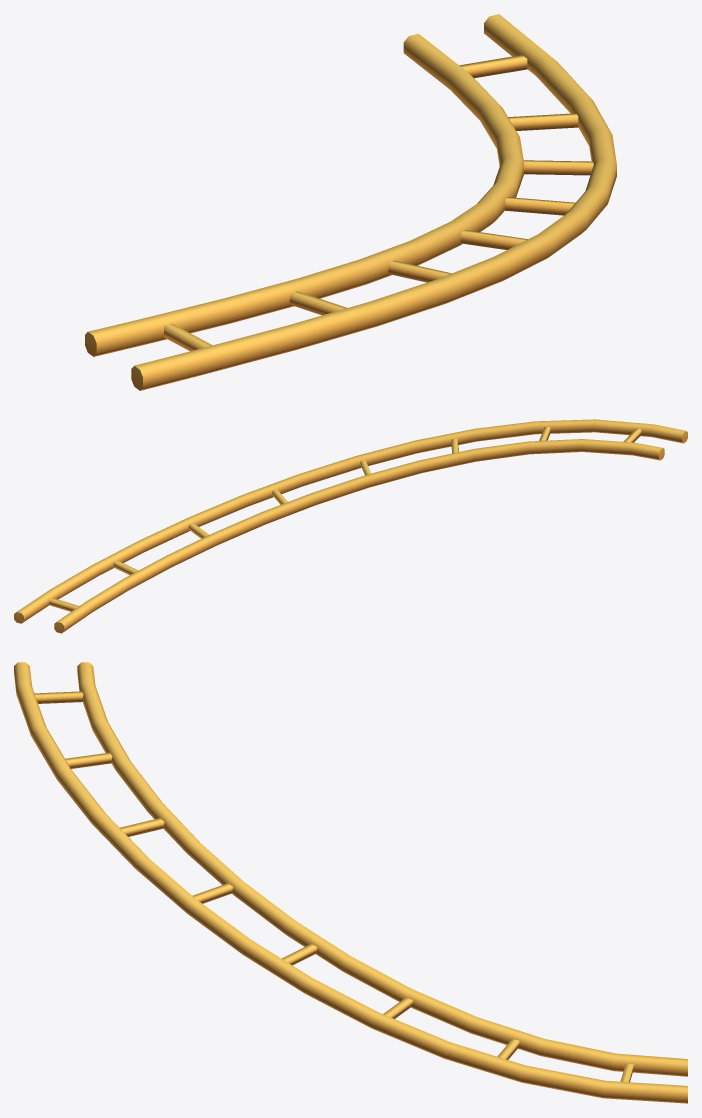
File: coaster-kit--coaster-mouse-corner-large-ramp.glb
3 views of the same model, one above another, from view 1: azimuth 30°, elevation 25°; view 2: azimuth 150°, elevation 25°; view 3: azimuth 270°, elevation 25° (orthographic). The views are drawn at different scales.
Parts seen in each view (by area): view 1: coaster-mouse-corner-large-ramp; view 2: coaster-mouse-corner-large-ramp; view 3: coaster-mouse-corner-large-ramp.
Boxes of the visible parts, box(x1,y1,x2,y2) form: coaster-mouse-corner-large-ramp: box(85, 14, 616, 390); coaster-mouse-corner-large-ramp: box(14, 419, 687, 633); coaster-mouse-corner-large-ramp: box(14, 662, 687, 1103).
Size of the model in its own units: 4.25 by 1.1 by 4.25.
1 material, 1 textured.
